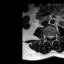CCS_normal: (50, 32, 51, 41)
LFS_normal: (53, 32, 55, 39)
LLS_normal: (51, 32, 53, 40)
RFS_normal: (46, 32, 48, 39)
RLS_normal: (48, 33, 50, 40)
